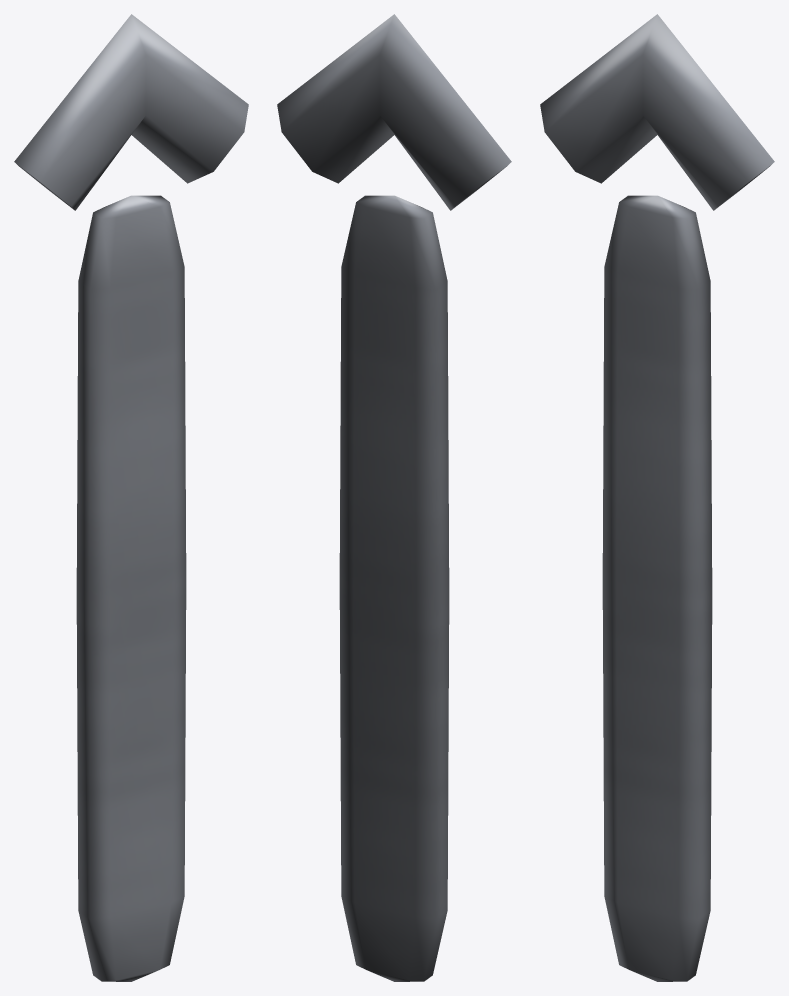
File: cle.glb
3 renders of one model, left to right at view 1: azimuth 30°, elevation 25°; view 2: azimuth 150°, elevation 25°; view 3: azimuth 330°, elevation 25°, orthographic.
Visible parts, largest first — view 1: cle; view 2: cle; view 3: cle.
Part boxes in pixels (box(x1,y1,x2,y2)): cle: box(14, 14, 248, 981); cle: box(277, 14, 511, 981); cle: box(540, 14, 774, 981).
Size of the model in its own units: 0.0812 by 0.32 by 0.0173.
1 material, 1 textured.
